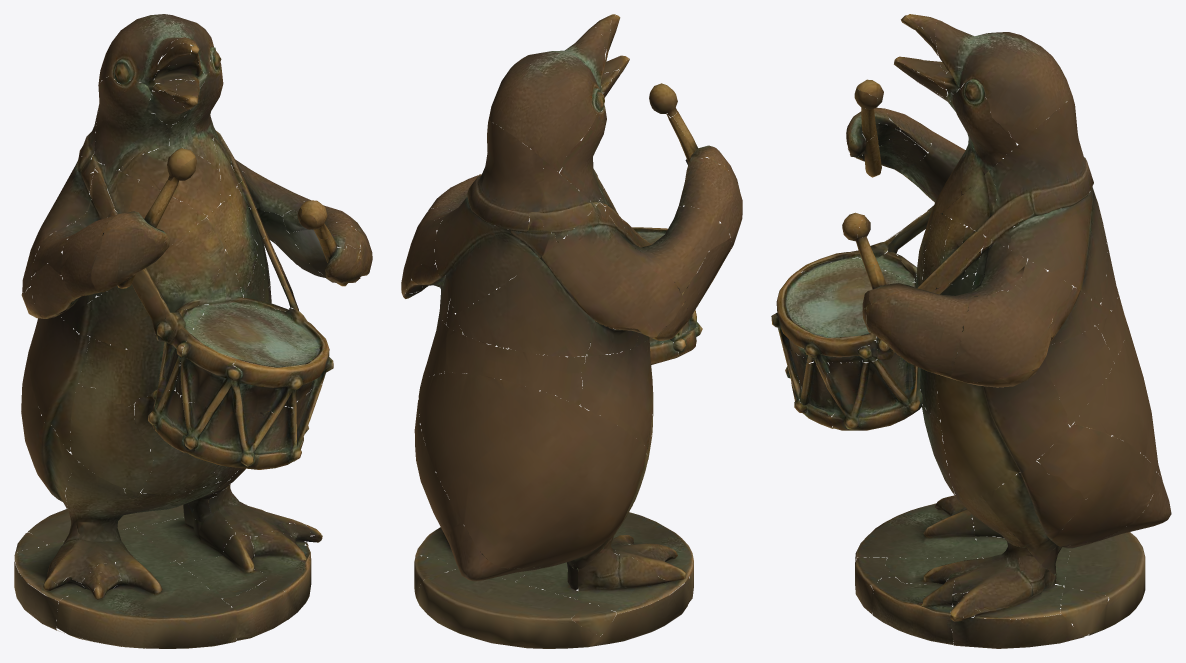
Rendered from h_clock_penguin.glb.
The picture shows the model from 3 angles, left to right: view 1: azimuth 30°, elevation 25°; view 2: azimuth 150°, elevation 25°; view 3: azimuth 270°, elevation 25°; orthographic projection. The views are drawn at different scales.
Visible parts, largest first — view 1: tripo_node_9403f1a7-6083-404d-91a7-480ce6391717; view 2: tripo_node_9403f1a7-6083-404d-91a7-480ce6391717; view 3: tripo_node_9403f1a7-6083-404d-91a7-480ce6391717.
Part boxes in pixels (bbox=[...]): tripo_node_9403f1a7-6083-404d-91a7-480ce6391717: bbox=[14, 14, 372, 648]; tripo_node_9403f1a7-6083-404d-91a7-480ce6391717: bbox=[401, 14, 742, 648]; tripo_node_9403f1a7-6083-404d-91a7-480ce6391717: bbox=[771, 14, 1171, 648].
Bounding box in the file's own units: 0.5525 × 1 × 0.6402.
Materials: 1 (1 with a texture image).
